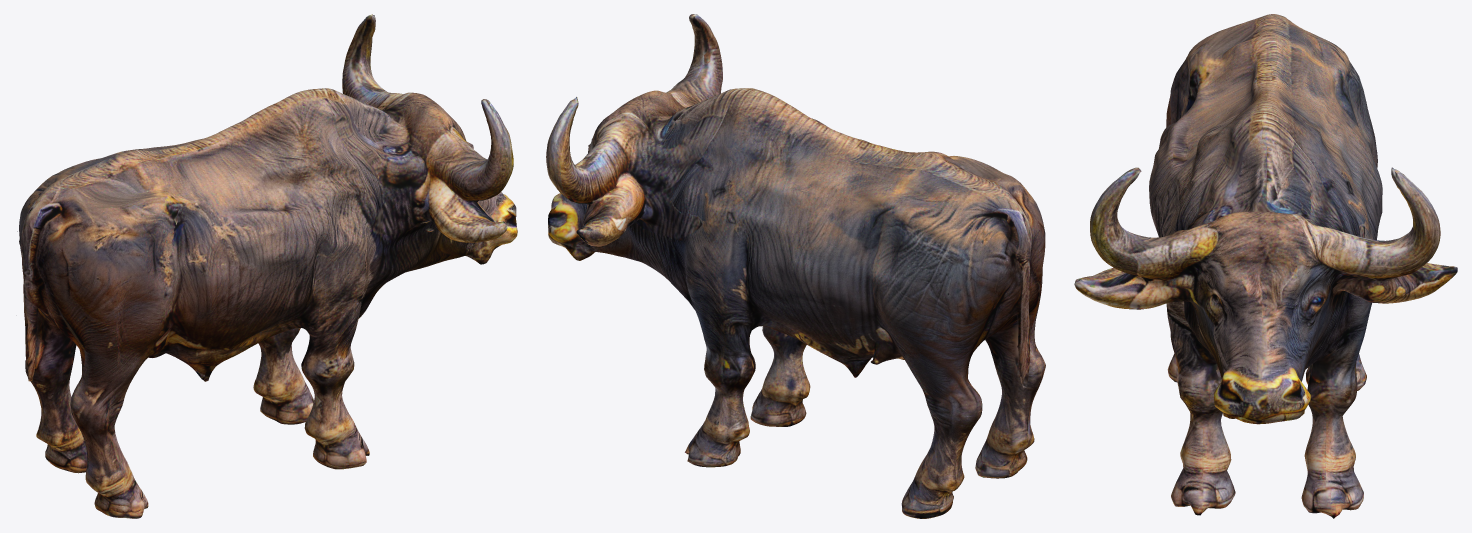
File: buffalo.glb
3 renders of one model, left to right at view 1: azimuth 30°, elevation 25°; view 2: azimuth 150°, elevation 25°; view 3: azimuth 270°, elevation 25°, orthographic. The views are drawn at different scales.
Size of the model in its own units: 1.2 by 0.8444 by 0.7363.
Materials: 1 (1 with a texture image).
